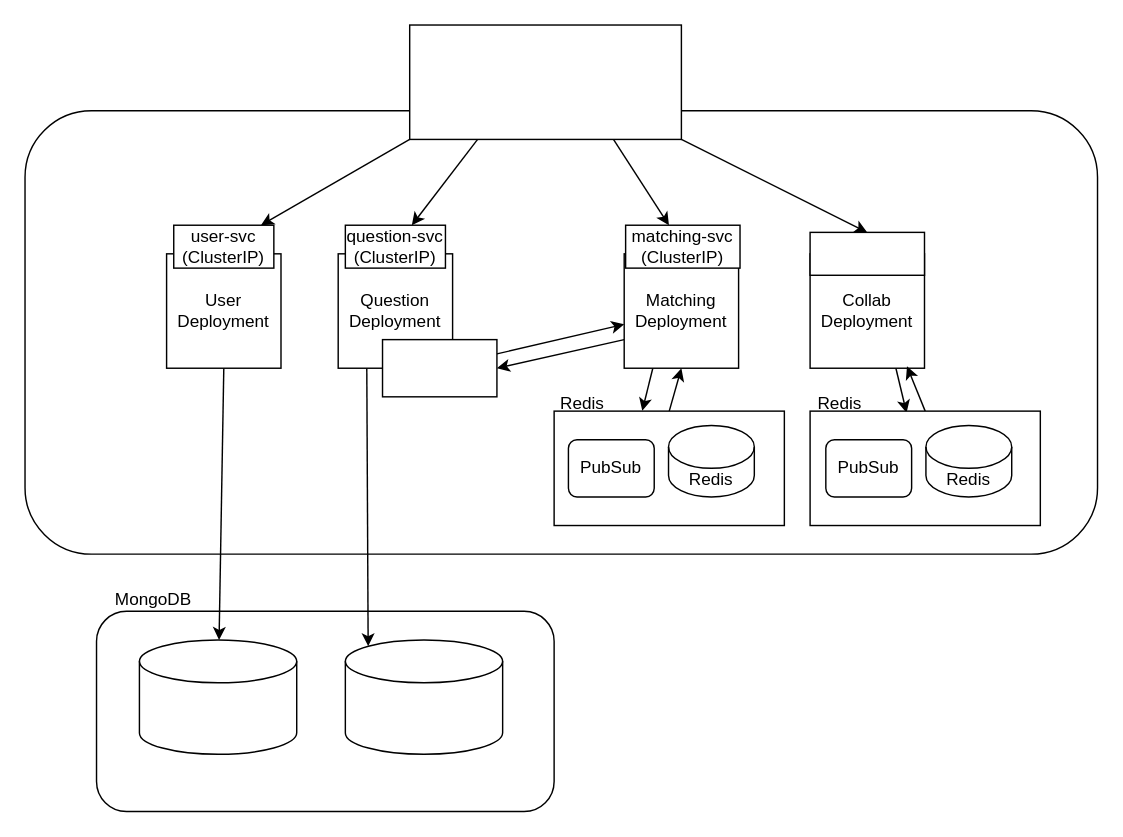
The diagram is 1123 pixels wide and 837 high, and some of its shapes have lost their labels. The centre of each missing label's shape, as x and y in pixels:
collab-svc (ClusterIP): pixel 866 253
grpc-question-svc: pixel 439 367
NGINX Ingress: pixel 544 81
QuestionDB: pixel 423 696
UserDB: pixel 217 696
